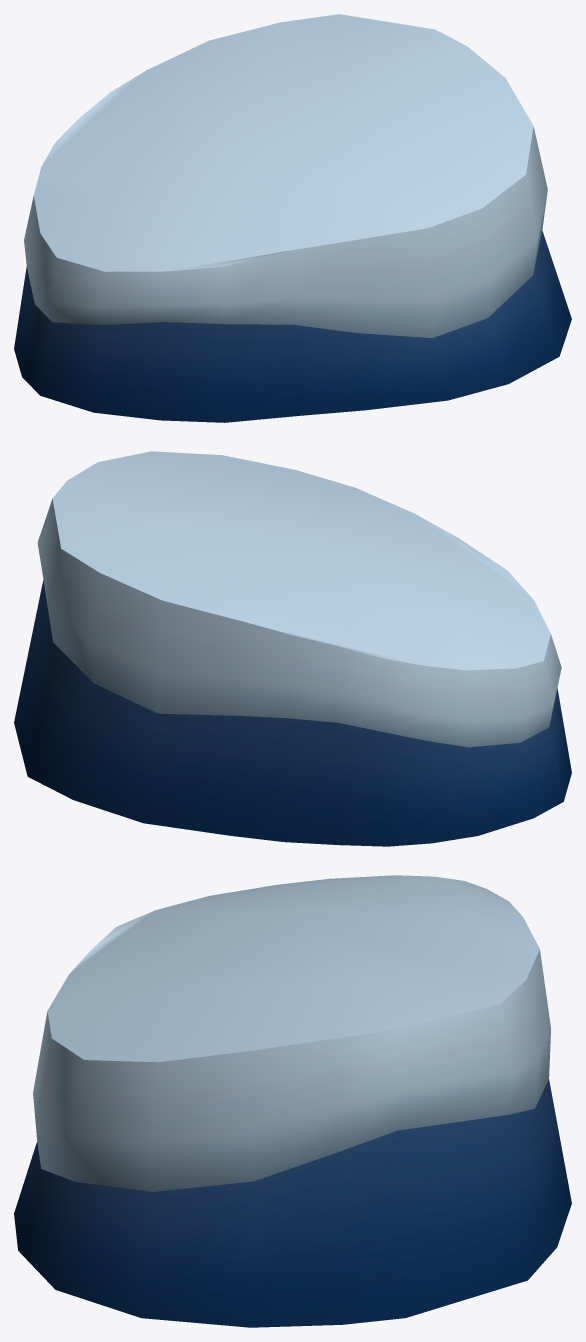
File: snow-rock-02.glb
3 views of the same model, one above another, from view 1: azimuth 30°, elevation 25°; view 2: azimuth 150°, elevation 25°; view 3: azimuth 270°, elevation 25° (orthographic). The views are drawn at different scales.
Parts seen in each view (by area): view 1: Snow Rock 02; view 2: Snow Rock 02; view 3: Snow Rock 02.
Part boxes in pixels (x1,y1,x2,y2): Snow Rock 02: (14, 14, 571, 422); Snow Rock 02: (14, 451, 571, 846); Snow Rock 02: (14, 875, 571, 1327).
Size of the model in its own units: 7.32 by 3.14 by 5.91.
Materials: 1 (1 with a texture image).
